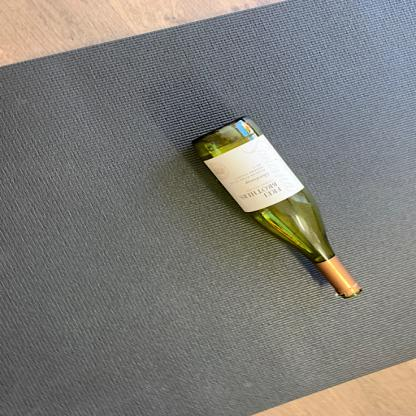trash: (192, 112, 370, 302)
